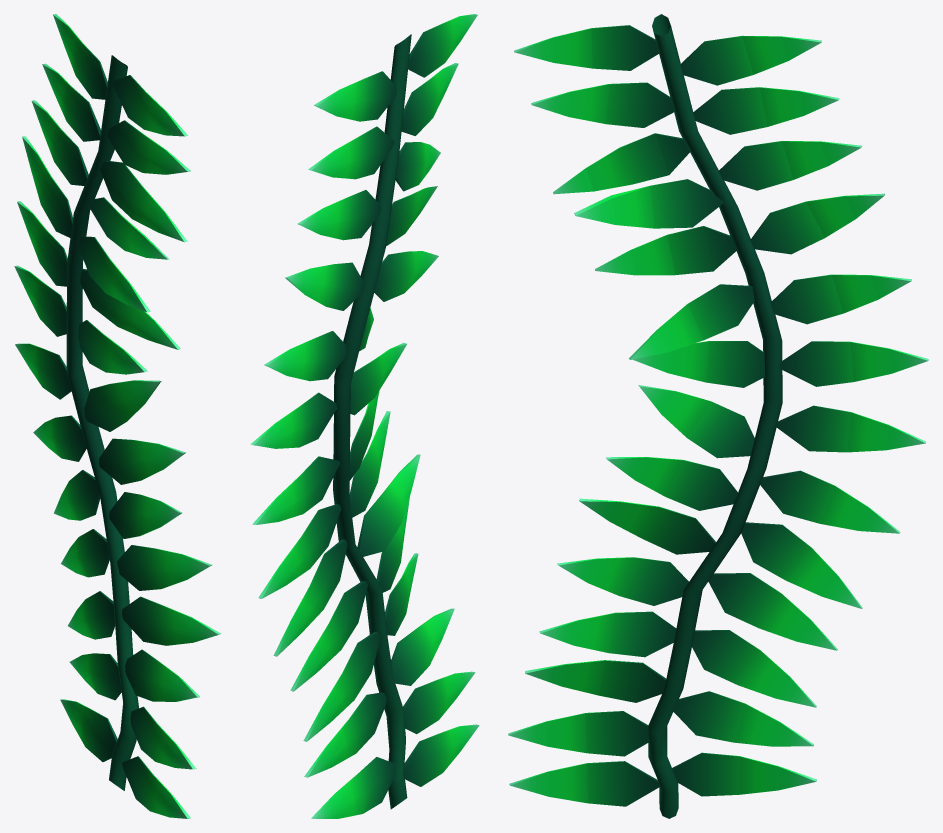
File: seaweed.FBX
3 renders of one model, left to right at view 1: azimuth 30°, elevation 25°; view 2: azimuth 150°, elevation 25°; view 3: azimuth 270°, elevation 25°, orthographic. The views are drawn at different scales.
Visible parts, largest first — view 1: Plane013; view 2: Plane013; view 3: Plane013.
Boxes of the visible parts, x1,y1,x2,y2 form: Plane013: (14, 14, 221, 818); Plane013: (250, 14, 479, 818); Plane013: (508, 14, 928, 818).
Size of the model in its own units: 6.97 by 82.07 by 39.23.
2 materials, 2 textured.
